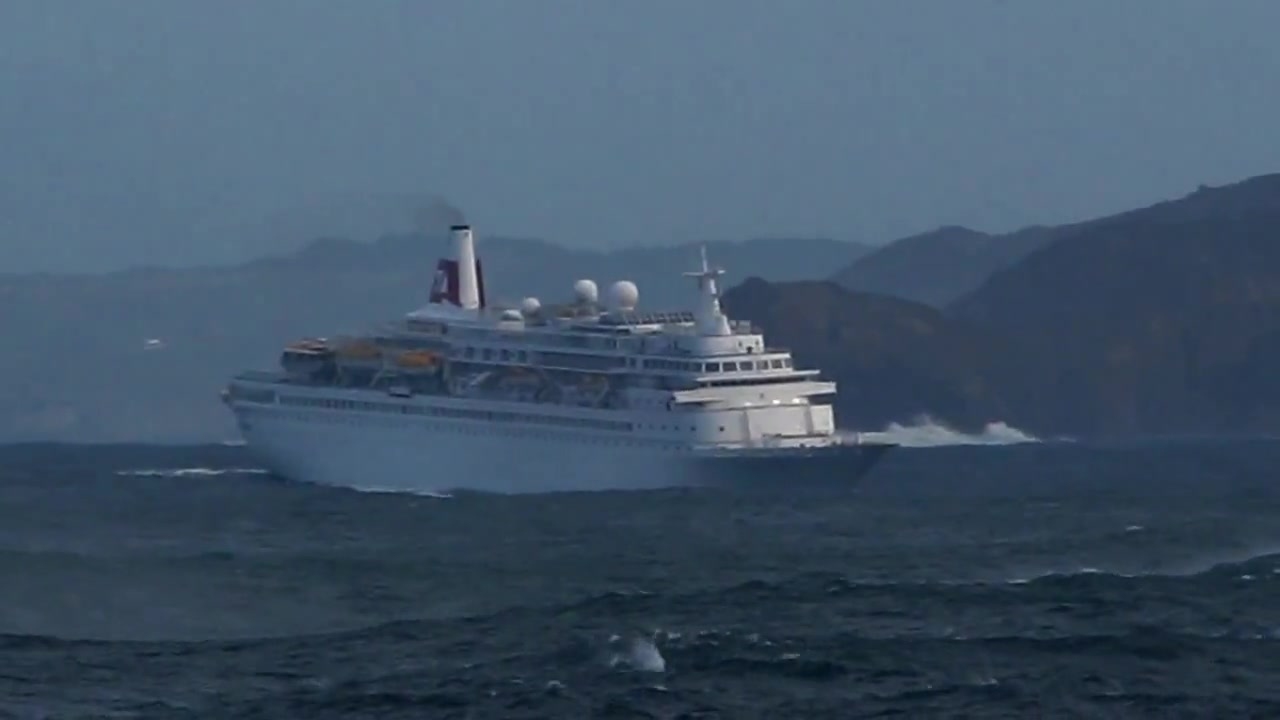boat: (225, 225, 899, 500)
